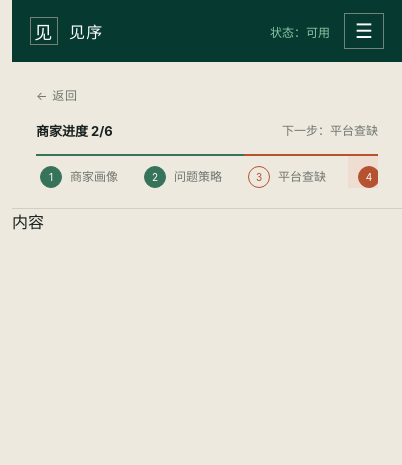
Test: shows merchant journey progress and exposes the full navigation on mobile
The width and height of the screenshot is (402, 465).
Expected: the text "商家进度 2/6" is shown, [36,121,113,140]
Expected: the text "下一步：平台查缺" is shown, [282,121,378,140]
Click the button named "打开导航": (364, 31) [344,13,384,49]
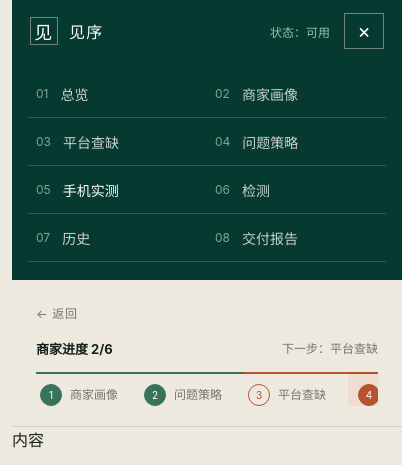
Expected: the button named "打开导航" is expanded, [344,13,384,49]
Expected: the navigation bar named "手机版主导航" is shown, [12,62,401,280]
